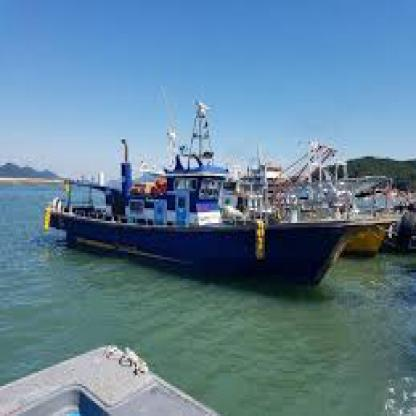fish-b: (39, 82, 406, 300)
